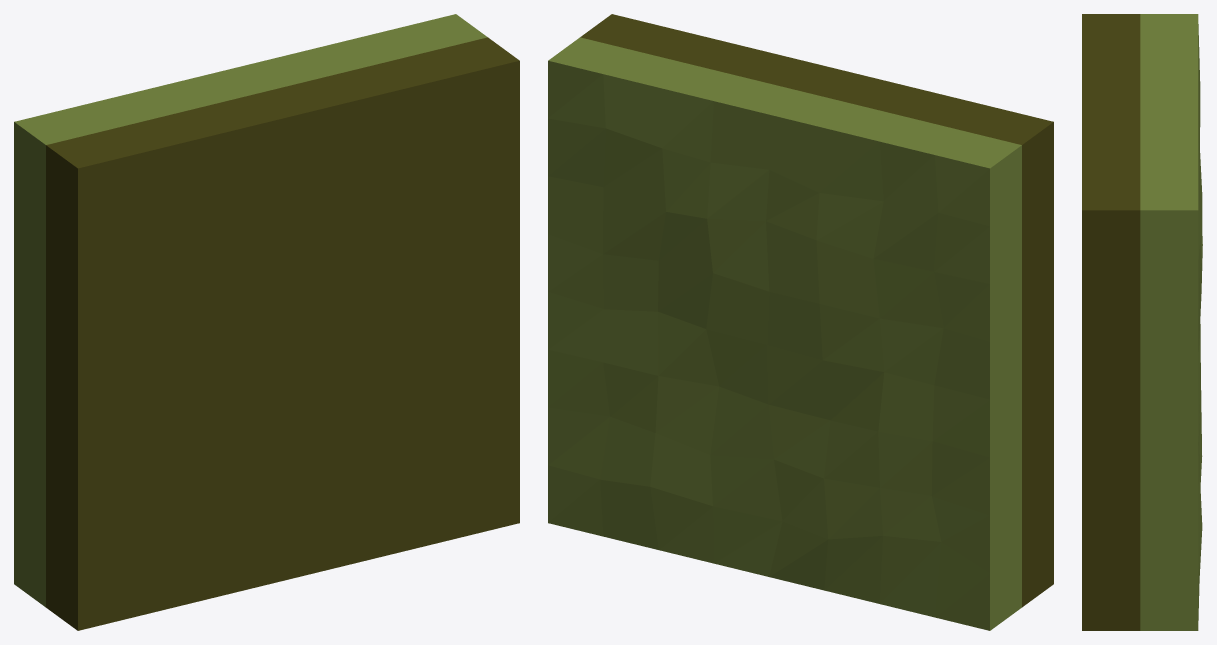
File: Flat_Ground.fbx
The picture shows the model from 3 angles, left to right: view 1: azimuth 30°, elevation 25°; view 2: azimuth 150°, elevation 25°; view 3: azimuth 270°, elevation 25°; orthographic projection. The views are drawn at different scales.
Parts seen in each view (by area): view 1: Flat_Ground; view 2: Flat_Ground; view 3: Flat_Ground.
Part boxes in pixels (bbox=[...]): Flat_Ground: bbox=[14, 14, 519, 630]; Flat_Ground: bbox=[548, 14, 1053, 630]; Flat_Ground: bbox=[1082, 14, 1202, 630].
Size of the model in its own units: 400 by 400 by 104.
